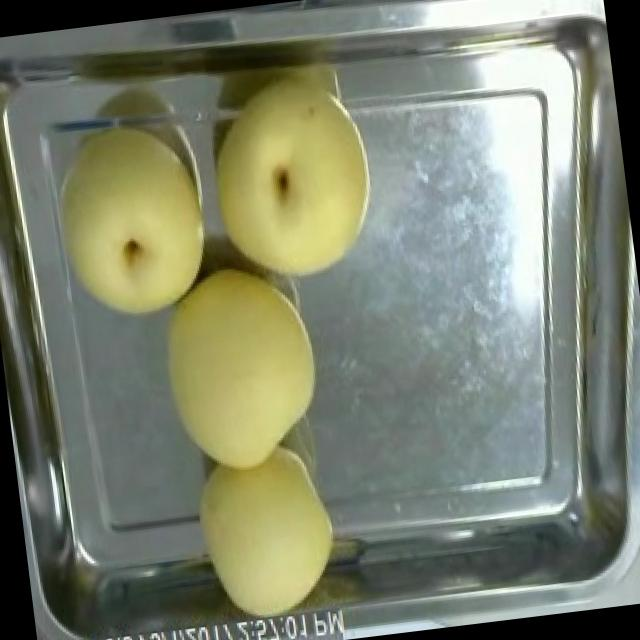Fruit: (183, 67, 394, 304), (142, 251, 338, 484), (37, 110, 229, 336), (181, 433, 350, 634)
